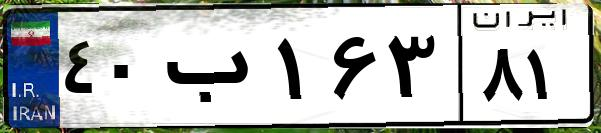0: (110, 28, 158, 98)
1: (270, 28, 330, 110), (525, 38, 570, 115)
3: (385, 28, 445, 110)
4: (57, 26, 110, 100)
6: (330, 28, 385, 110)
8: (475, 38, 525, 113)
ب: (158, 20, 270, 120)
